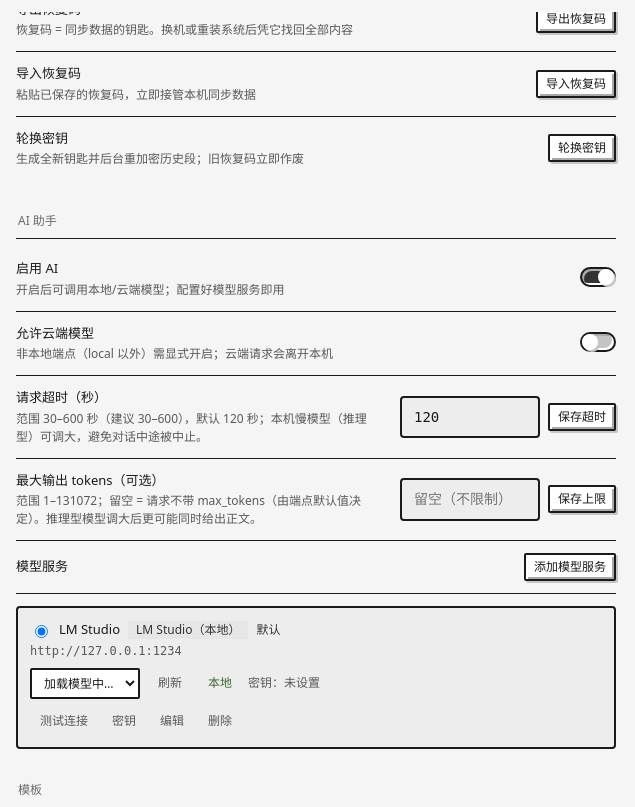
Test: 设置页 · AI 请求参数（TASK-T46-01 §1.1） › max_tokens：填 2048 → 保存带上；留空 → 显式清回未设置（null）
(page scrolled)
Type "2048" into the number field named "最大输出 tokens（可选）". click: (470, 499)
box: [400, 478, 540, 521]
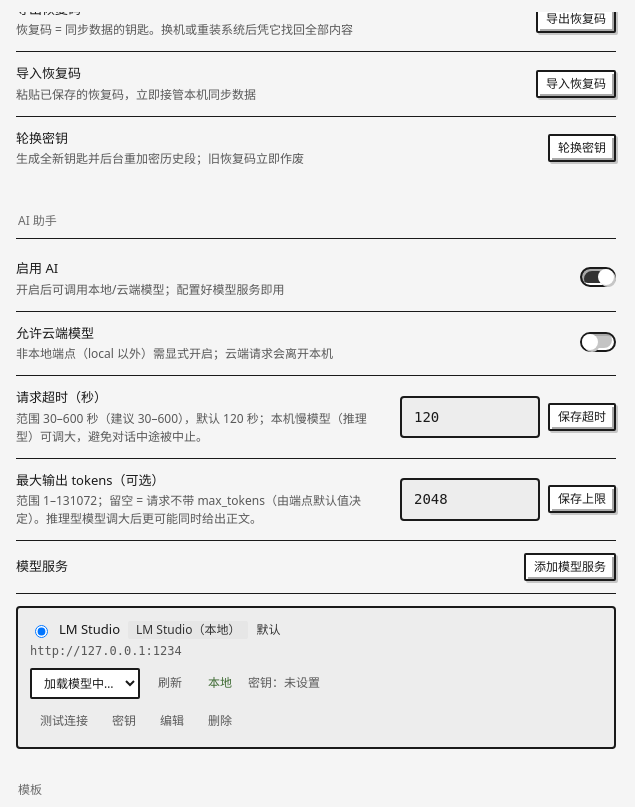
Click the button "保存上限". click: (582, 499)
box: [548, 485, 616, 513]
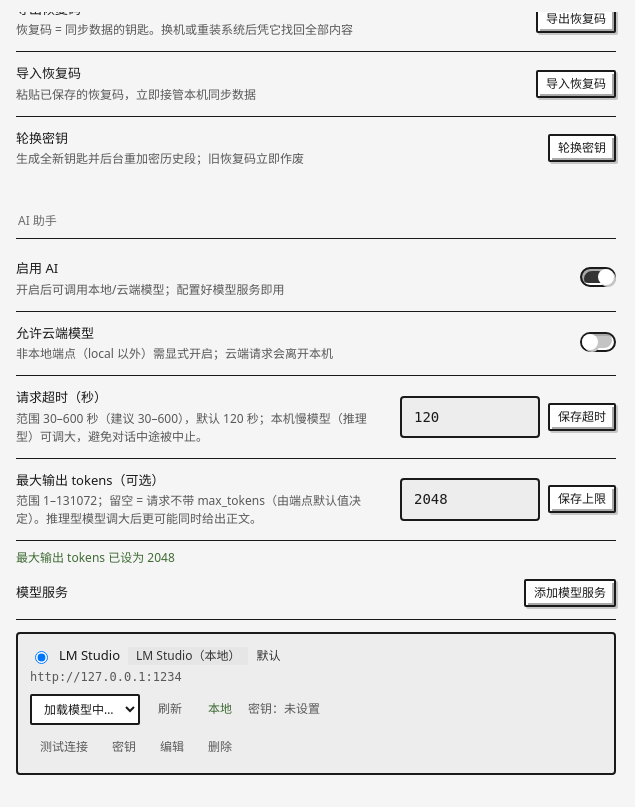
Expected: the text "最大输出 tokens 已设为 2048" is shown, [16, 549, 175, 566]
Clear the number field named "最大输出 tokens（可选）". click: (470, 499)
box: [400, 478, 540, 521]
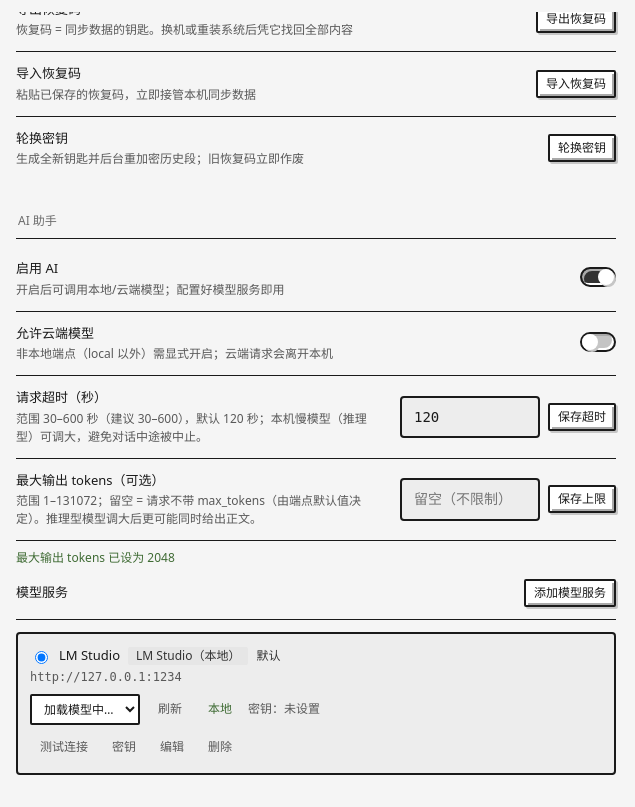
Click the button "保存上限". click: (582, 499)
box: [548, 485, 616, 513]
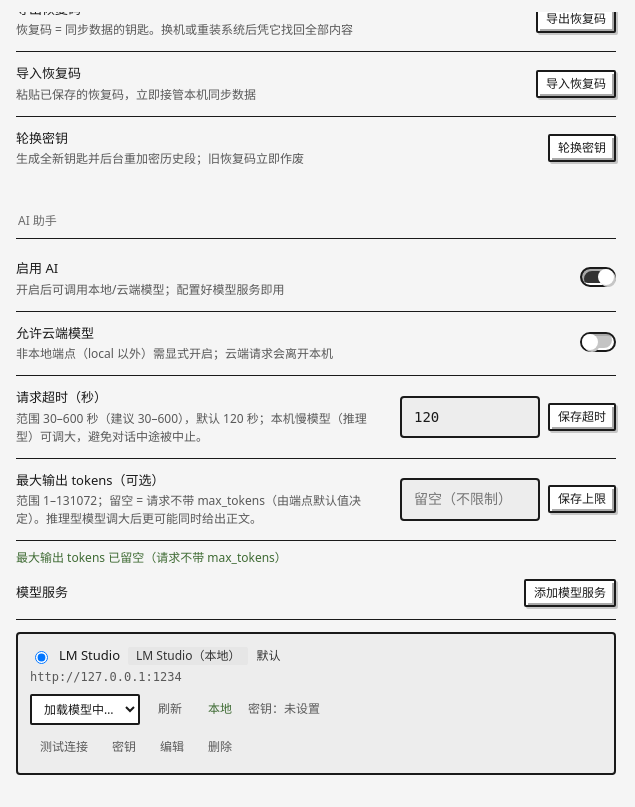
Expected: the text "最大输出 tokens 已留空（请求不带 max_tokens）" is shown, [16, 549, 287, 566]
